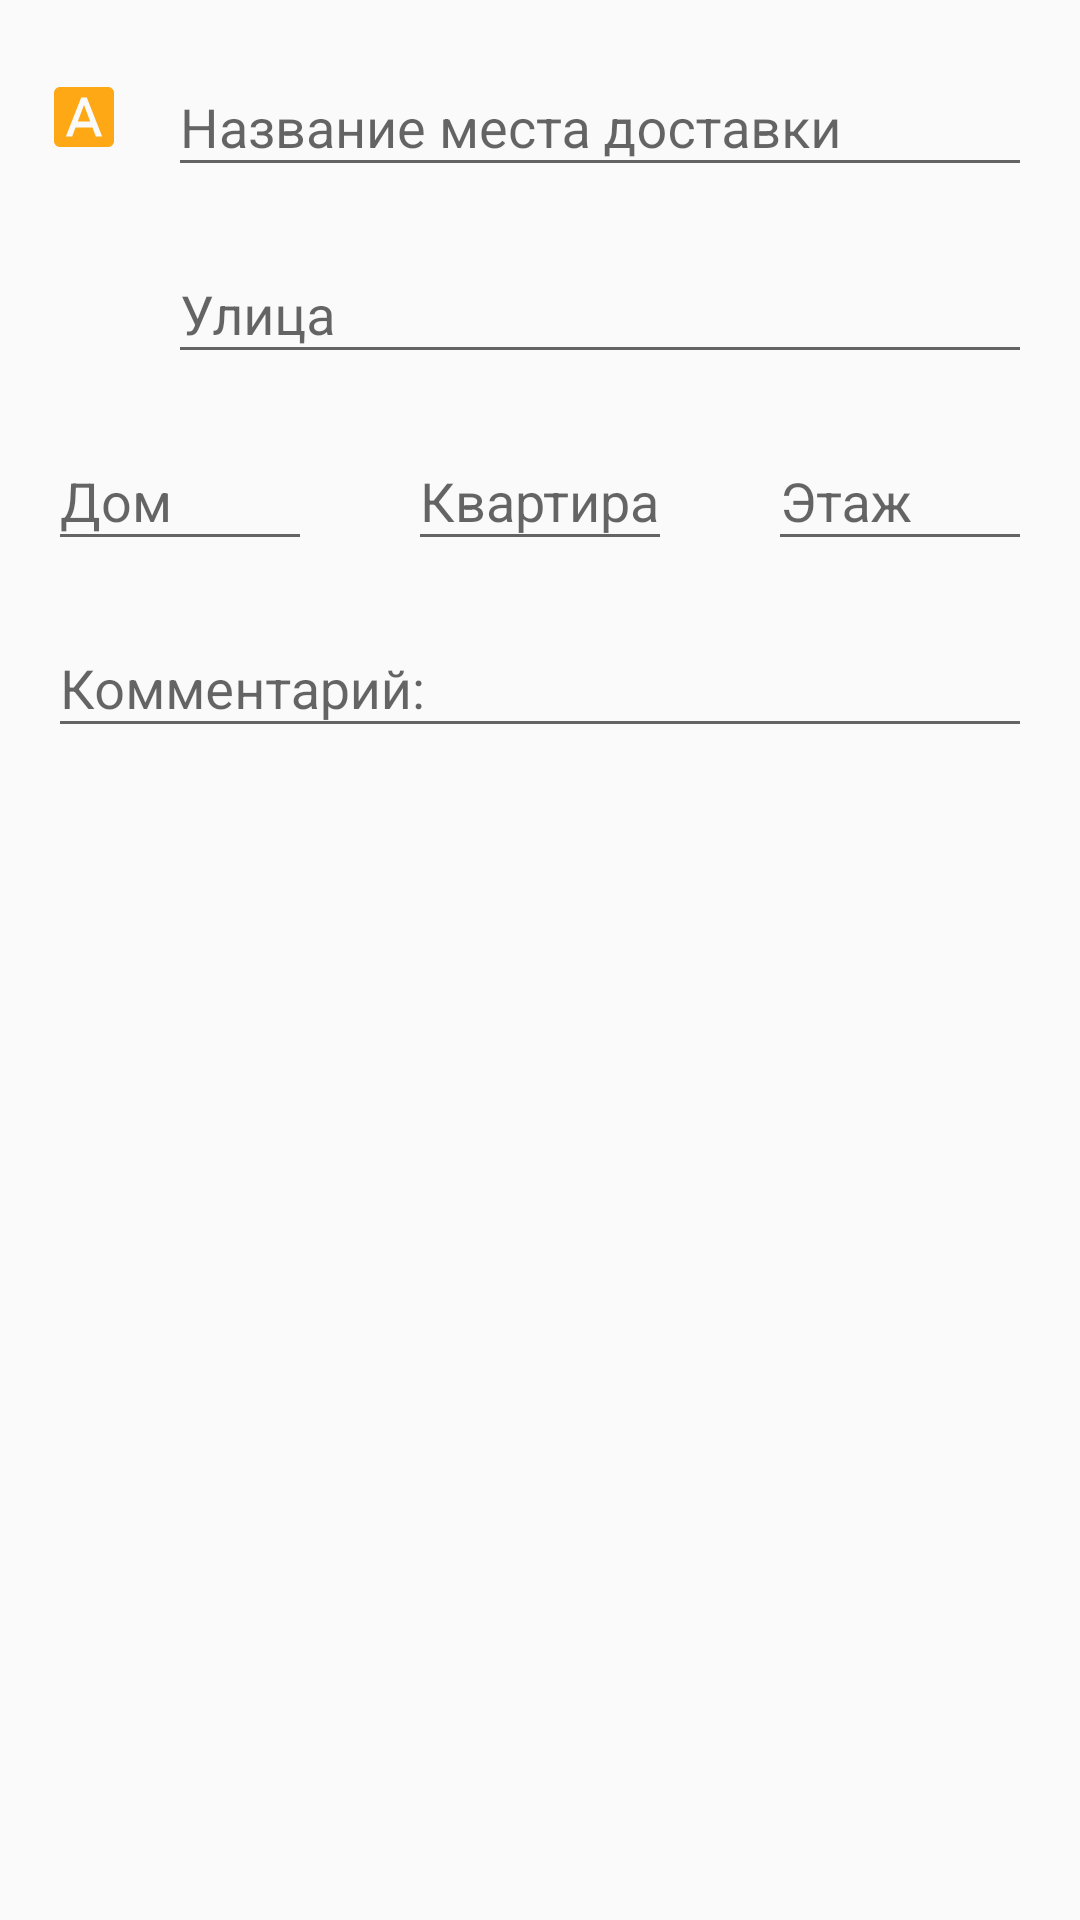

Icons on this 1080px×1920px Android screen, each with its box as bbox=(x1, y1, x2, y2):
font download: bbox=(54, 87, 114, 147)
